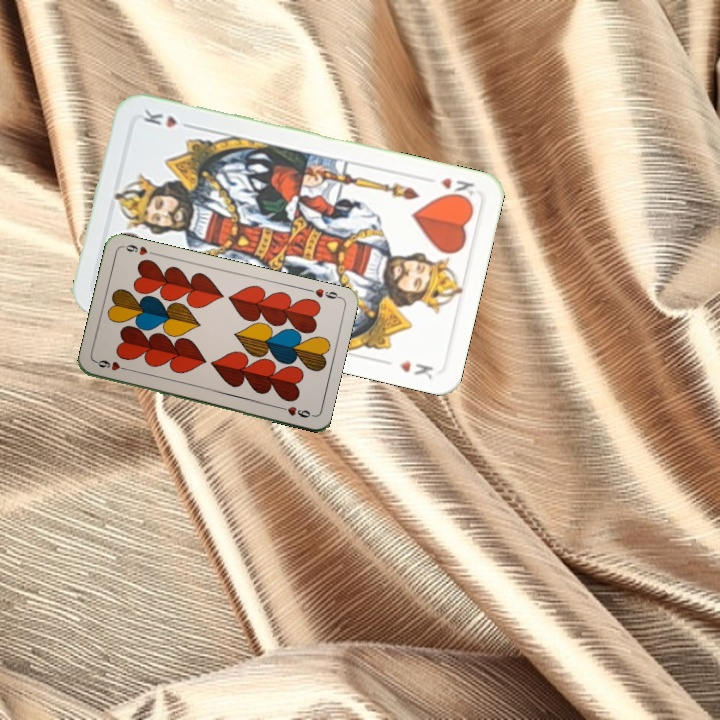H9: (92, 356, 132, 373), (303, 284, 343, 301)
HK: (437, 173, 477, 204)
